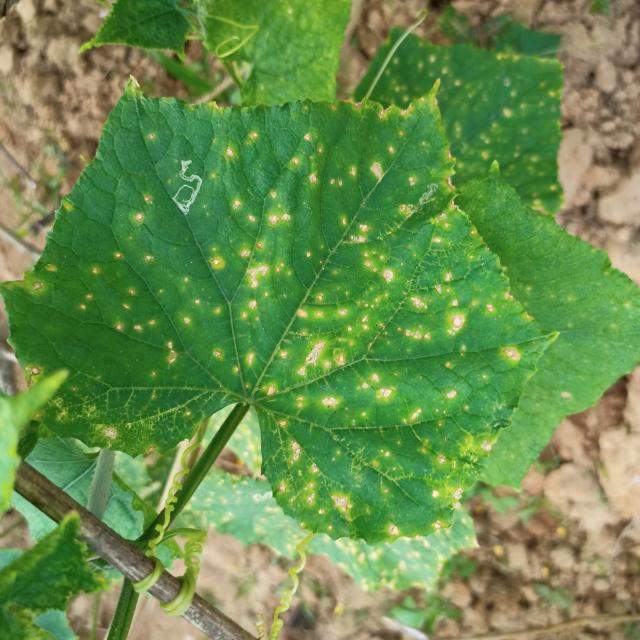disease_cucumber: (65, 90, 505, 534)
